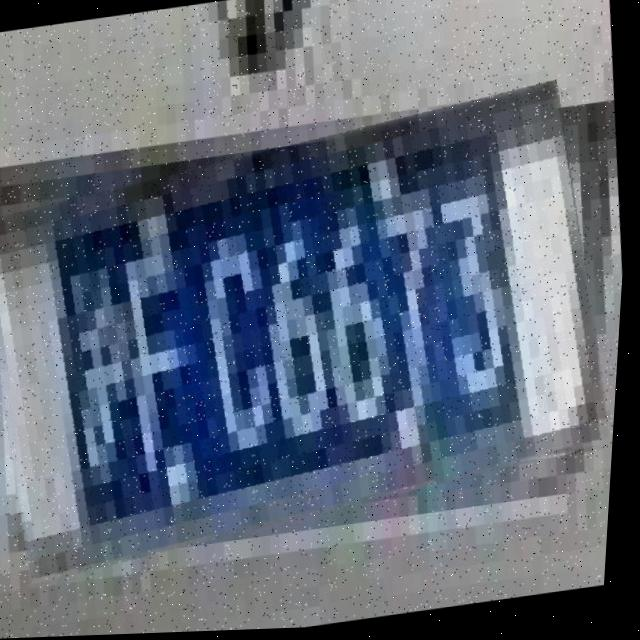LicensePlate: (0, 92, 631, 575)
